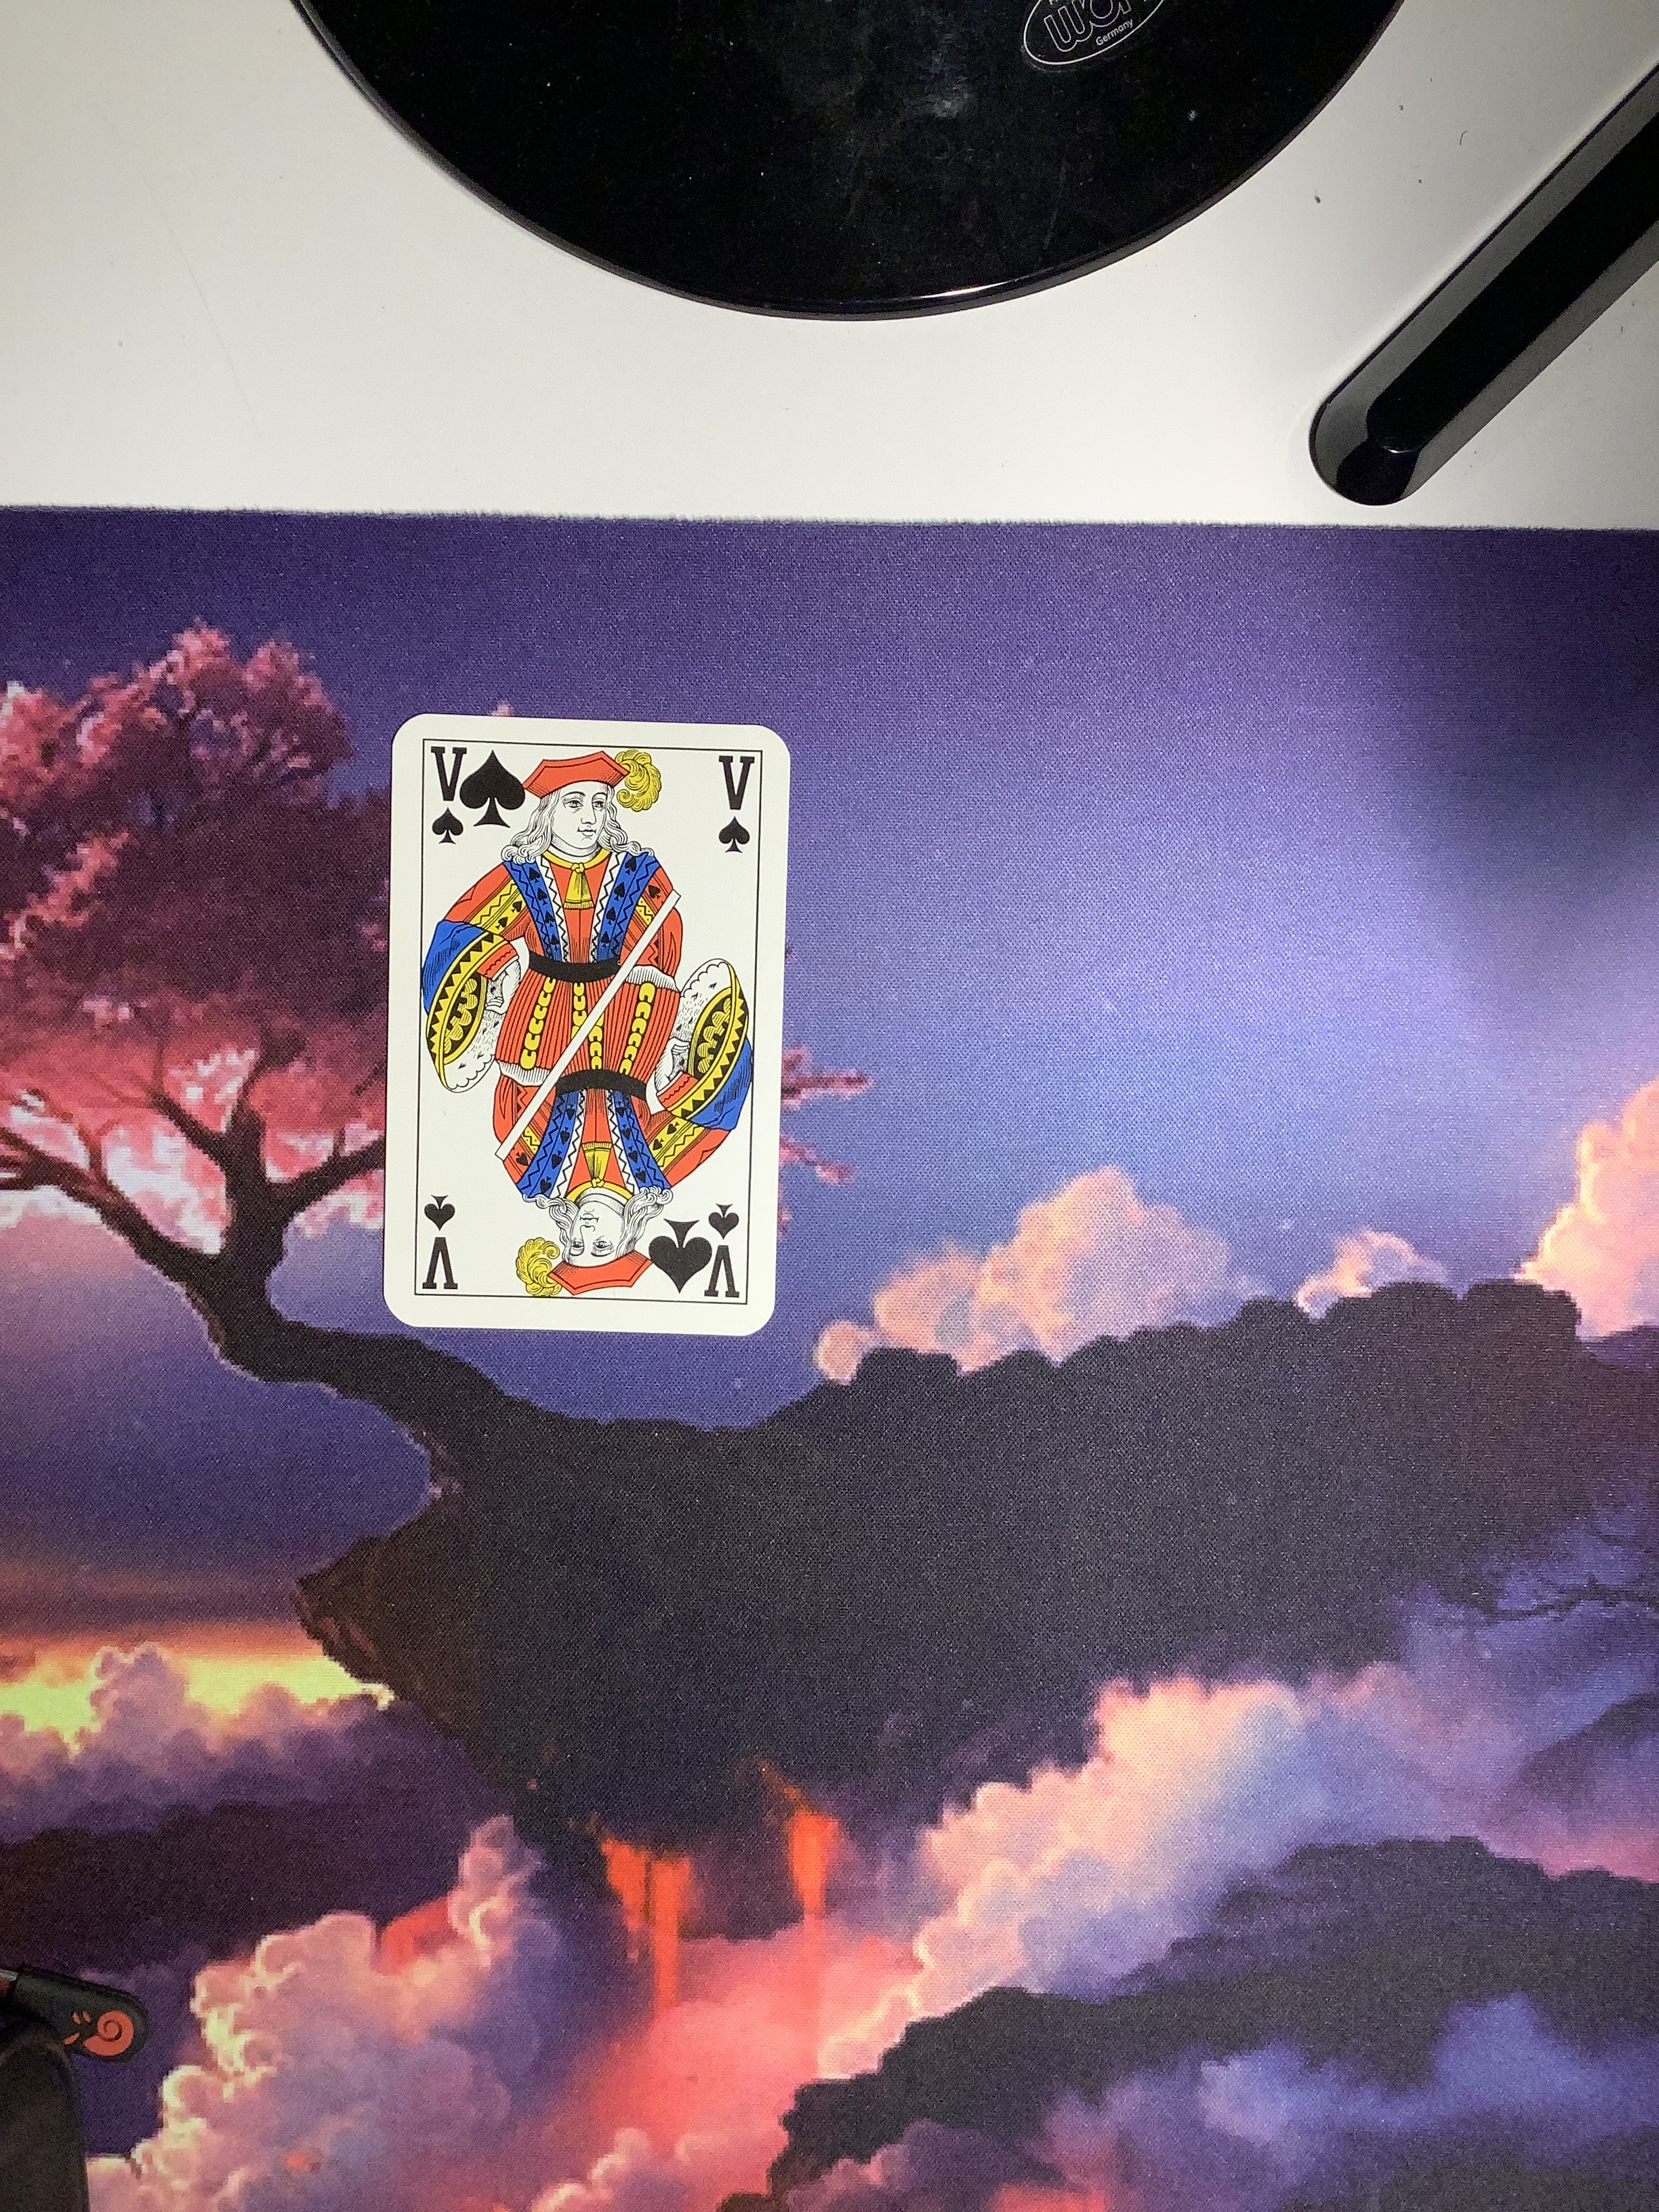♠ J: (383, 700, 807, 1341)
